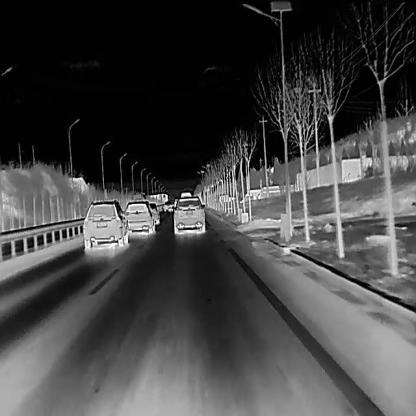car: (82, 199, 127, 249), (170, 194, 204, 235), (122, 200, 155, 234), (147, 202, 159, 224), (163, 200, 174, 212)
